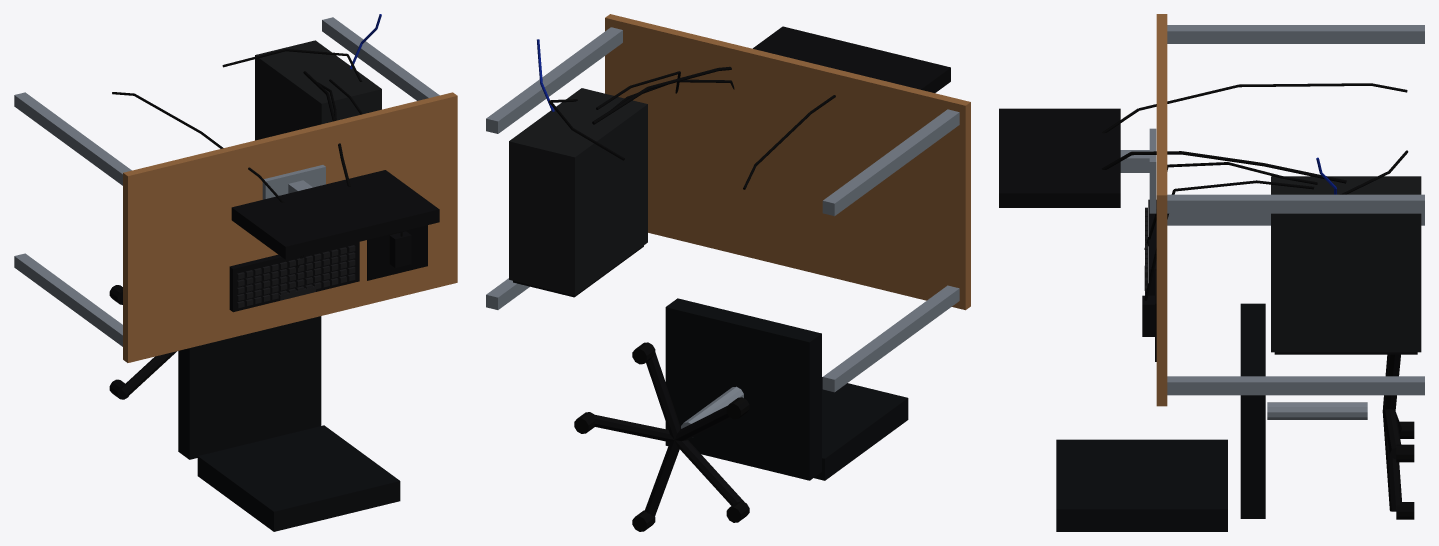
File: StudentWorkstation.obj
The picture shows the model from 3 angles, left to right: view 1: azimuth 30°, elevation 25°; view 2: azimuth 150°, elevation 25°; view 3: azimuth 270°, elevation 25°; orthographic projection. The views are drawn at different scales.
Visible parts, largest first — view 1: ComputerTable_Top, Chair_Seat, Chair_Backrest, Monitor_Bezel, PCCabinet, MetalTableLeg, Keyboard_Key, Keyboard_Base, MousePad, Monitor_Stand_Base, Mouse, Chair_Base_Spoke (+1 smaller); view 2: ComputerTable_Top, PCCabinet, Chair_Seat, MetalTableLeg, Monitor_Bezel, Chair_Backrest, Chair_Base_Spoke, Chair_Caster, Chair_GasLift, Monitor_HDMI_Cable; view 3: PCCabinet, MetalTableLeg, Chair_Backrest, Monitor_Bezel, Chair_Seat, ComputerTable_Top, Chair_Base_Spoke, Chair_GasLift, Monitor_Power_Cable, Monitor_HDMI_Cable, Chair_Caster, MouseUSB_Cable (+5 smaller).
Part boxes in pixels (<box>): ComputerTable_Top: <box>123,92,457,362</box>; Chair_Seat: <box>178,316,321,459</box>; Chair_Backrest: <box>197,425,400,531</box>; Monitor_Bezel: <box>231,170,439,259</box>; PCCabinet: <box>255,40,381,140</box>; MetalTableLeg: <box>14,17,439,346</box>; Keyboard_Key: <box>237,245,355,308</box>; Keyboard_Base: <box>229,242,359,312</box>; MousePad: <box>367,225,427,280</box>; Monitor_Stand_Base: <box>262,165,325,199</box>; Mouse: <box>389,231,411,267</box>; Chair_Base_Spoke: <box>121,300,176,396</box>; ComputerTable_Top: <box>605,14,970,310</box>; PCCabinet: <box>509,88,647,295</box>; Chair_Seat: <box>665,298,821,480</box>; MetalTableLeg: <box>486,27,959,392</box>; Monitor_Bezel: <box>753,26,950,92</box>; Chair_Backrest: <box>814,377,908,480</box>; Chair_Base_Spoke: <box>594,352,744,515</box>; Chair_Caster: <box>574,342,749,531</box>; Chair_GasLift: <box>681,386,743,428</box>; Monitor_HDMI_Cable: <box>592,66,731,124</box>; PCCabinet: <box>1271,176,1421,352</box>; MetalTableLeg: <box>1167,25,1424,395</box>; Chair_Backrest: <box>1056,439,1227,531</box>; Monitor_Bezel: <box>999,108,1120,207</box>; Chair_Seat: <box>1240,303,1265,518</box>; ComputerTable_Top: <box>1156,14,1167,406</box>; Chair_Base_Spoke: <box>1382,354,1401,511</box>; Chair_GasLift: <box>1267,402,1367,419</box>; Monitor_Power_Cable: <box>1102,83,1407,133</box>; Monitor_HDMI_Cable: <box>1102,151,1346,183</box>; Chair_Caster: <box>1396,421,1414,519</box>; MouseUSB_Cable: <box>1144,180,1314,300</box>.
Bounding box in the file's own units: 1.2 × 1.34 × 1.19.
